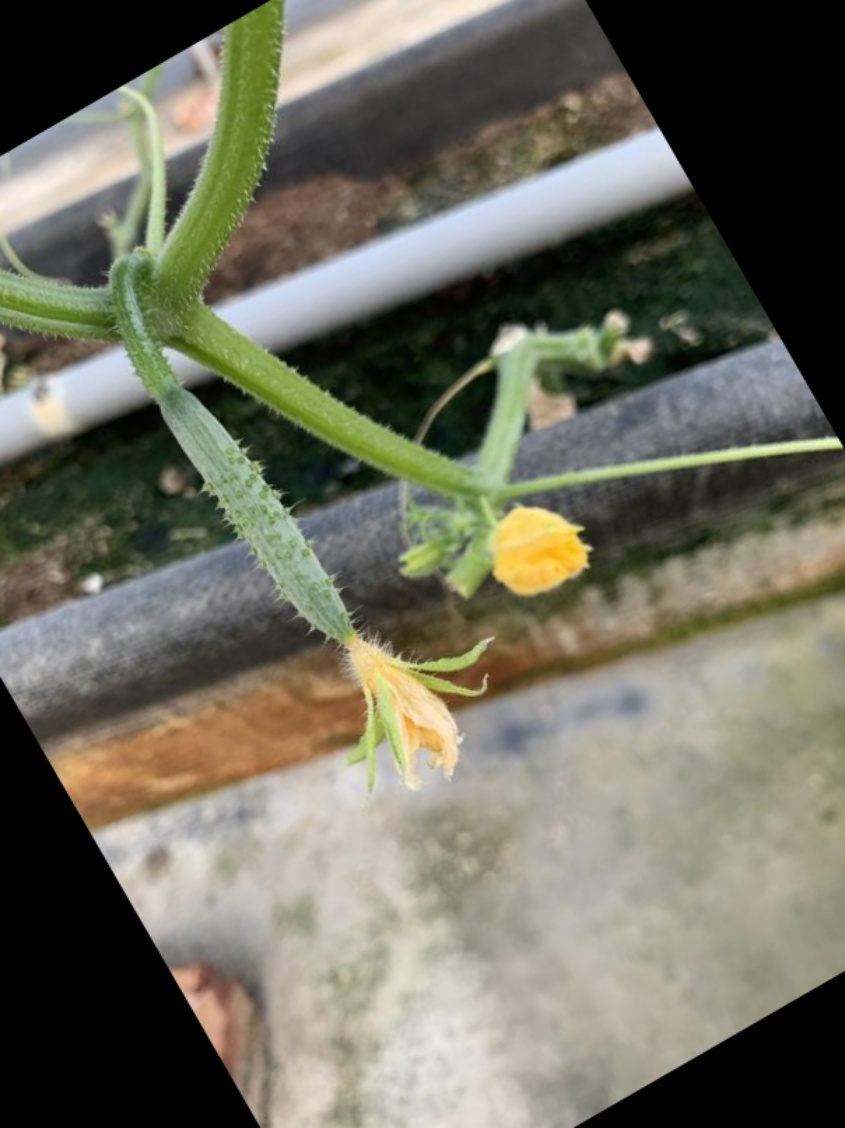bear: (140, 349, 492, 806)
